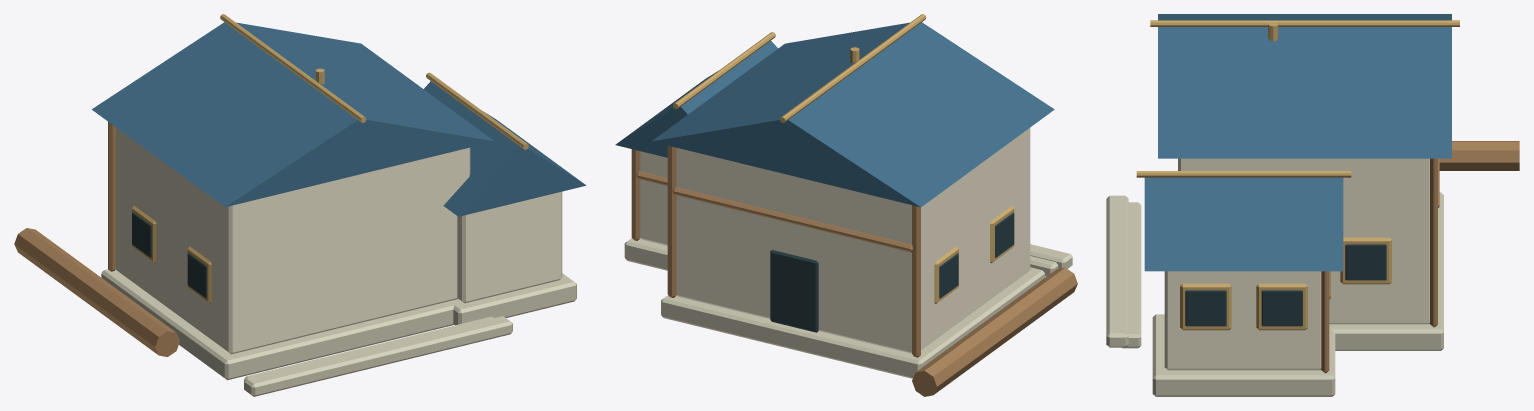
The model's file is level_18.glb.
The picture shows the model from 3 angles, left to right: view 1: azimuth 30°, elevation 25°; view 2: azimuth 150°, elevation 25°; view 3: azimuth 270°, elevation 25°; orthographic projection. The views are drawn at different scales.
Visible parts, largest first — view 1: timber_yard — level 18; view 2: timber_yard — level 18; view 3: timber_yard — level 18.
Boxes of the visible parts, x1=… form: timber_yard — level 18: x1=14, y1=14, x2=586, y2=396; timber_yard — level 18: x1=615, y1=14, x2=1077, y2=396; timber_yard — level 18: x1=1106, y1=14, x2=1519, y2=396.
Size of the model in its own units: 6.43 by 3.68 by 5.2.
